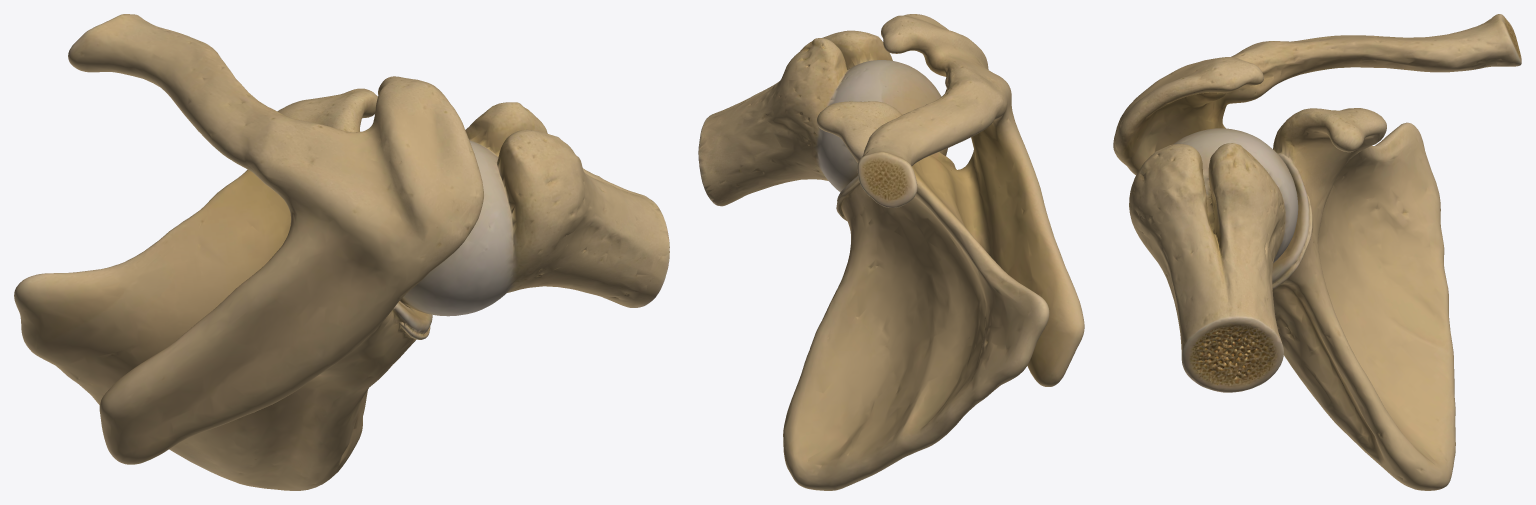
Rendered from shoulder.glb.
The picture shows the model from 3 angles, left to right: view 1: azimuth 30°, elevation 25°; view 2: azimuth 150°, elevation 25°; view 3: azimuth 270°, elevation 25°; orthographic projection. The views are drawn at different scales.
Parts seen in each view (by area): view 1: tripo_node_f6682ce1-face-427e-9b38-5eac9da3fdea; view 2: tripo_node_f6682ce1-face-427e-9b38-5eac9da3fdea; view 3: tripo_node_f6682ce1-face-427e-9b38-5eac9da3fdea.
Boxes of the visible parts, x1,y1,x2,y2 form: tripo_node_f6682ce1-face-427e-9b38-5eac9da3fdea: (14,14,669,490); tripo_node_f6682ce1-face-427e-9b38-5eac9da3fdea: (698,14,1084,490); tripo_node_f6682ce1-face-427e-9b38-5eac9da3fdea: (1113,14,1521,490).
Size of the model in its own units: 0.9999 by 0.8865 by 0.7702.
1 material, 1 textured.
